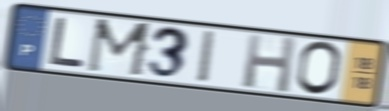3: (145, 24, 196, 82)
H: (241, 32, 298, 96)
I: (196, 28, 218, 86)
L: (47, 15, 88, 69)
M: (84, 16, 156, 79)
O: (294, 39, 344, 98)
